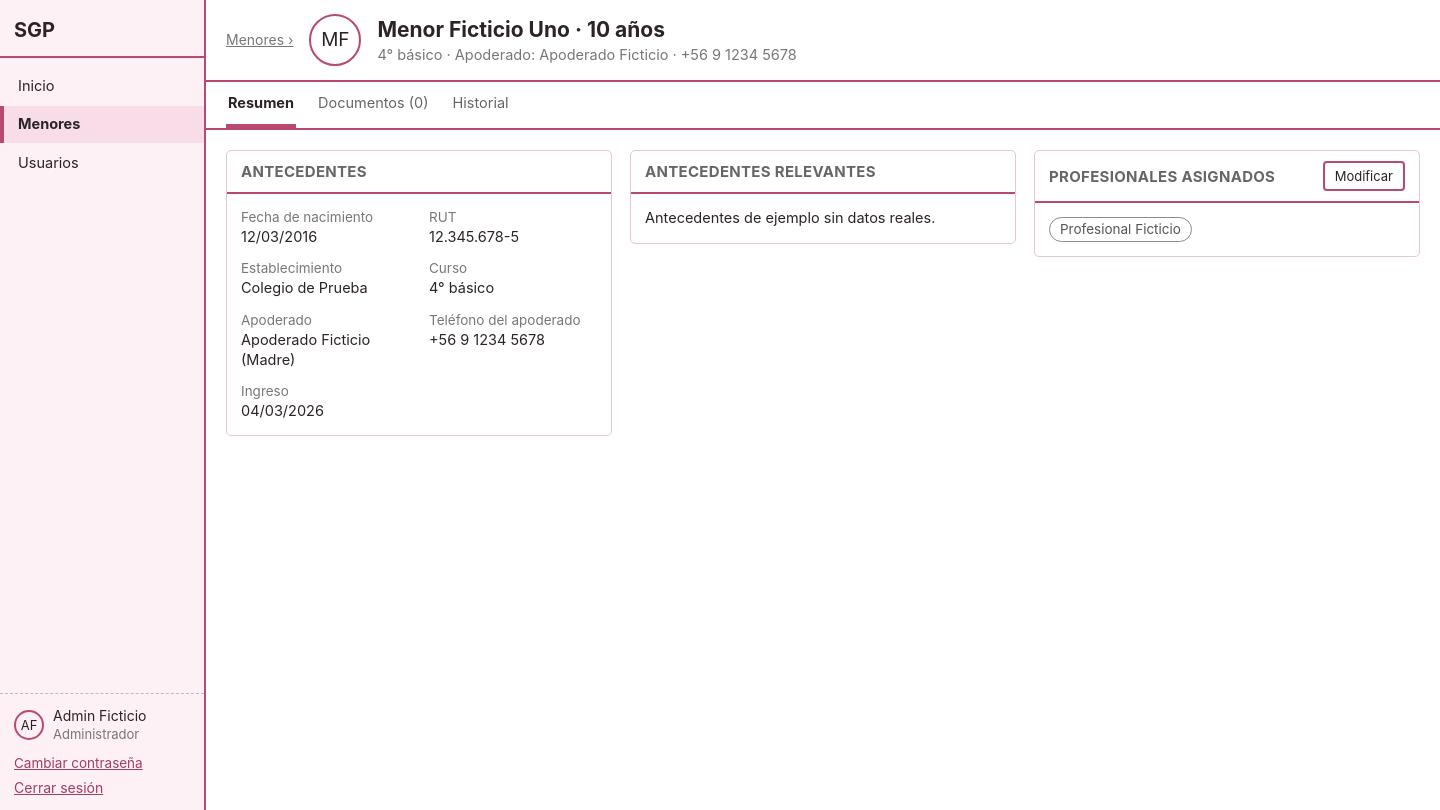
Test: Ficha del menor › el administrador ve la ficha sin opciones de edición y puede asignar profesionales
Expected: the heading "Menor Ficticio Uno · 10 años" is shown, x1=377 y1=17 x2=665 y2=42
Click the button "Modificar": click(1364, 176) x1=1323 y1=161 x2=1405 y2=192
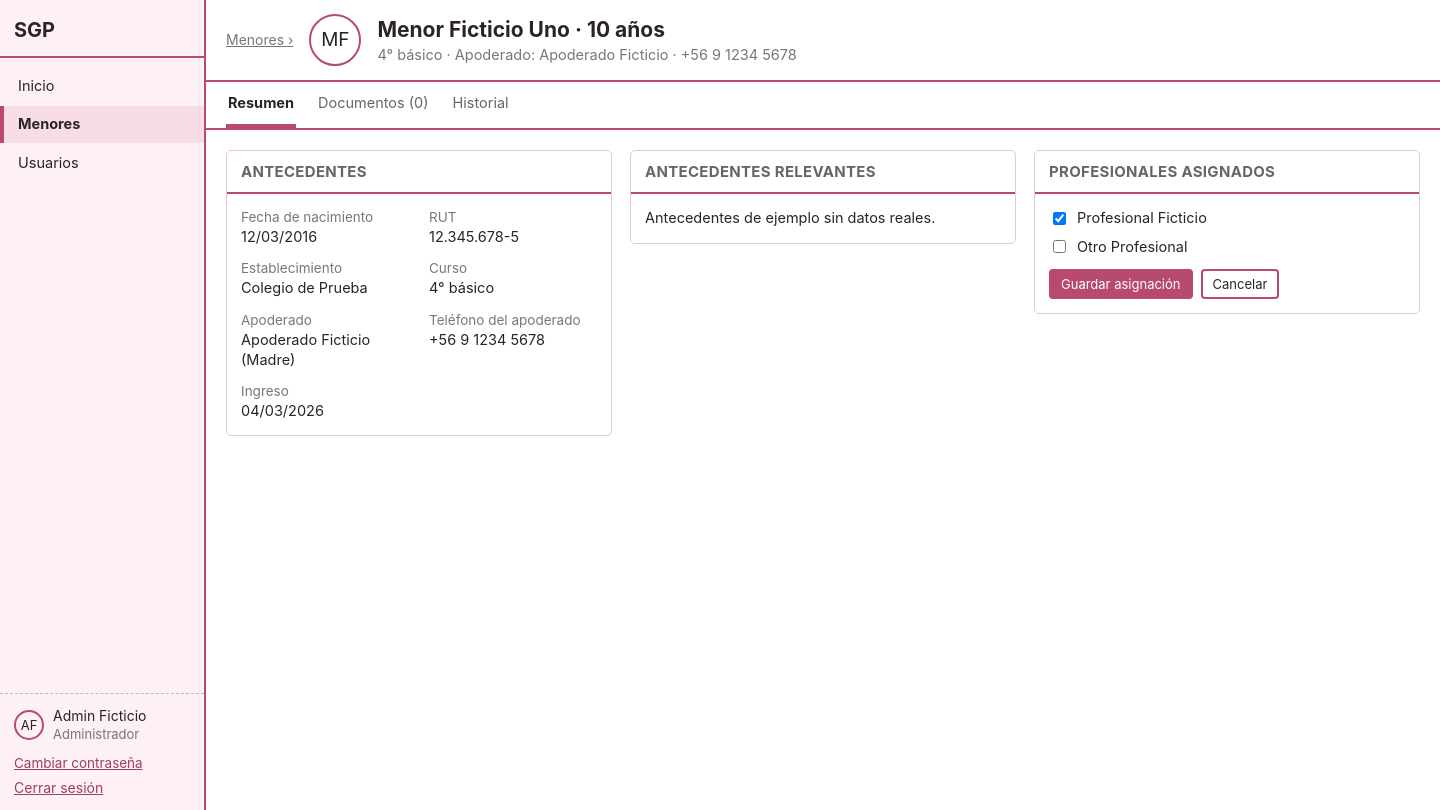
Now the checkbox labelled "Profesional Ficticio" is checked, box x1=1053 y1=212 x2=1066 y2=225
Click the checkbox labelled "Otro Profesional": click(1060, 247) x1=1053 y1=240 x2=1066 y2=253
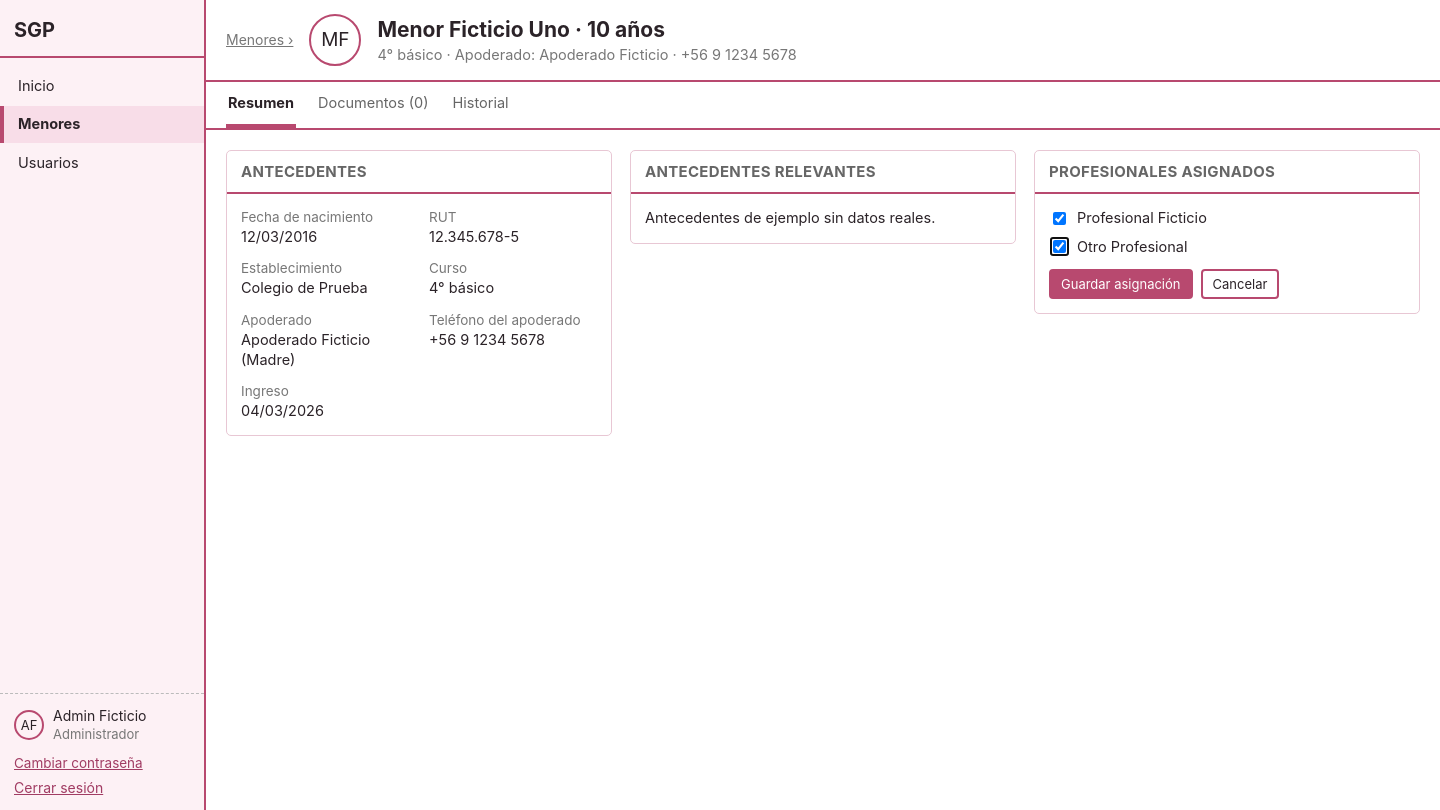
Click the button "Guardar asignación": click(1121, 284) x1=1049 y1=269 x2=1192 y2=299
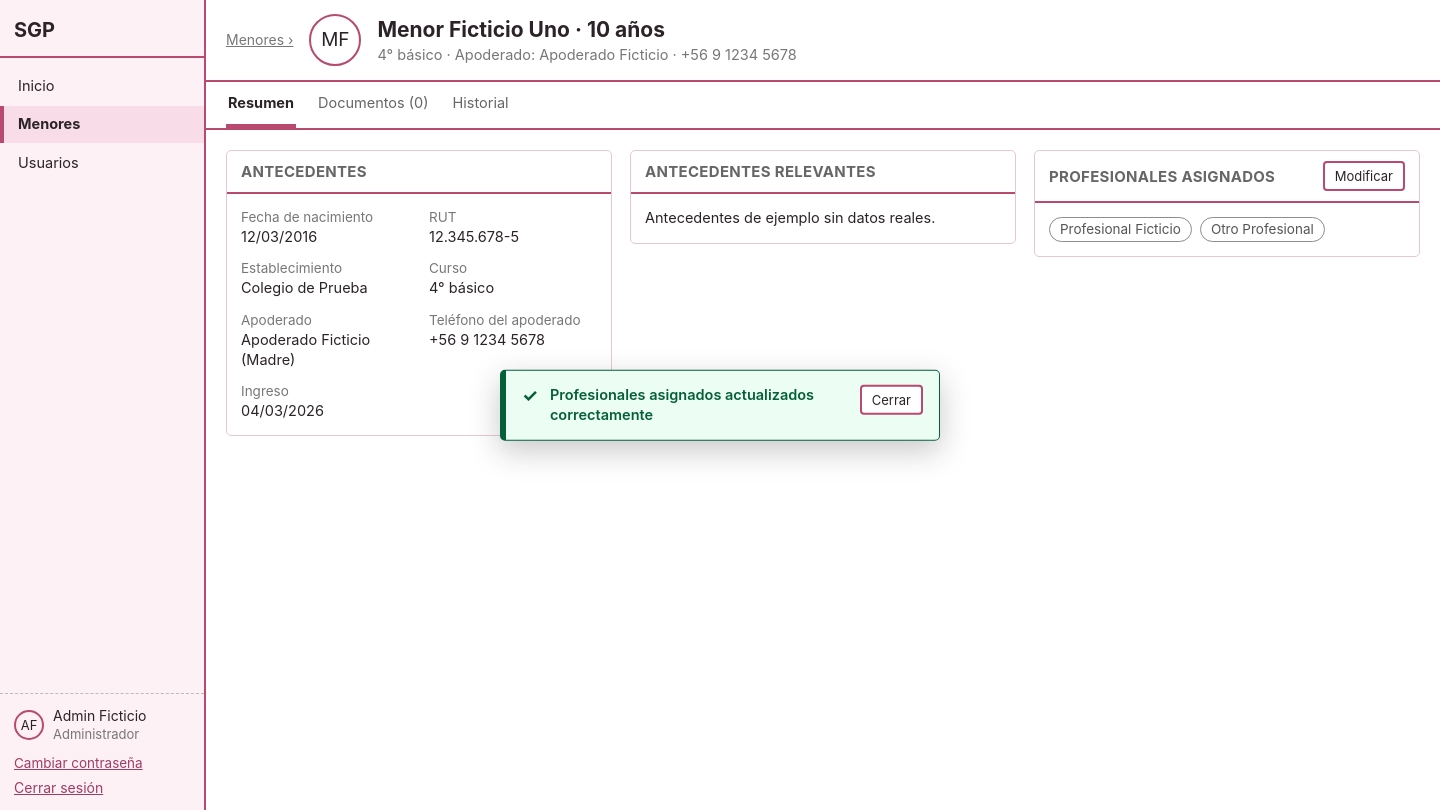
Now the text "Profesionales asignados actualizados correctamente" is shown, box x1=550 y1=385 x2=848 y2=425
